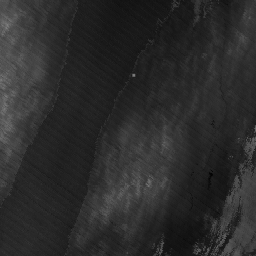Target: (129, 72, 137, 78)
